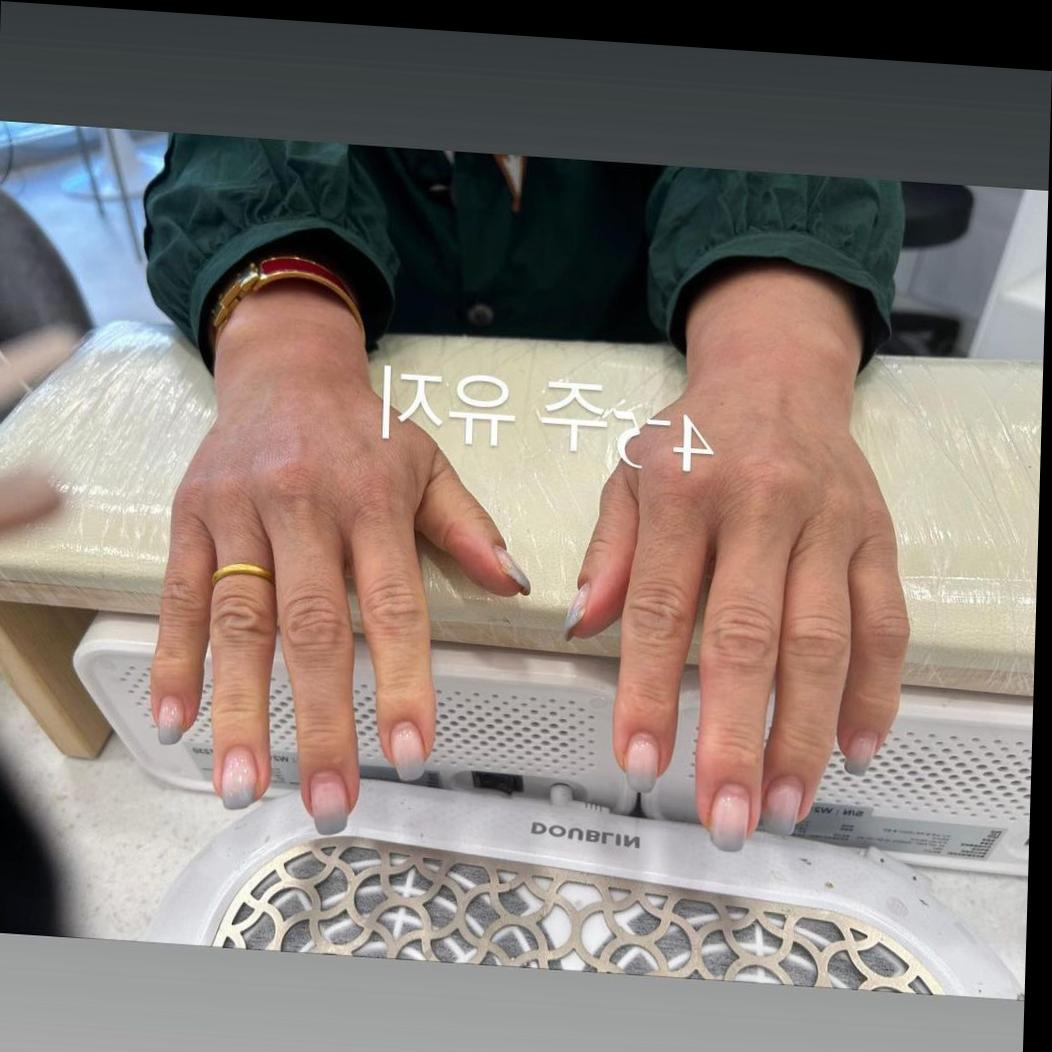nail: (708, 781, 751, 852), (760, 770, 805, 836), (309, 766, 351, 835), (220, 742, 259, 810), (390, 717, 428, 782), (624, 729, 660, 792), (493, 544, 533, 595), (562, 577, 591, 640), (844, 727, 878, 776), (156, 693, 185, 744)
